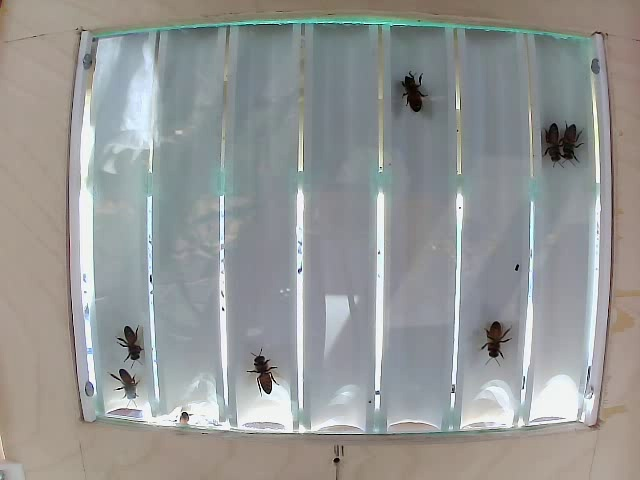bee: (480, 297, 522, 360), (388, 67, 436, 111), (242, 359, 288, 399), (95, 365, 140, 402), (105, 325, 147, 364), (540, 113, 569, 166), (570, 117, 586, 168)
